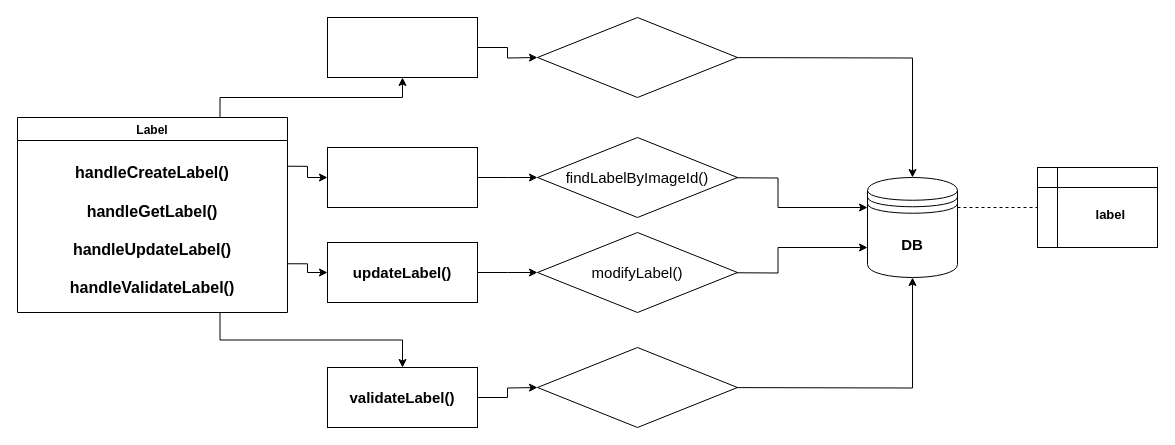
This 1175x445 diagram has some shape labels left out. Each missing label, with the box of its shape:
createLabel(): (326, 16, 478, 78)
getLabel(): (326, 146, 478, 208)
insertLabel(): (536, 16, 738, 98)
setLabelValidated(): (536, 346, 738, 428)
